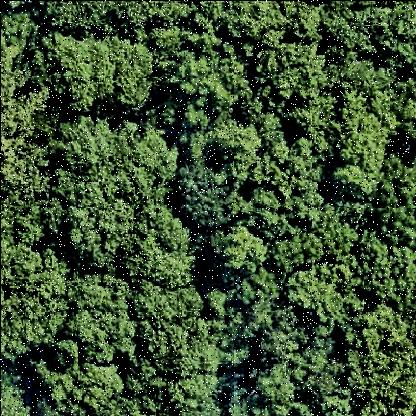tree-top: (60, 122, 194, 279), (47, 31, 160, 120), (130, 283, 219, 381), (340, 308, 416, 416), (235, 142, 323, 232), (7, 245, 73, 352), (255, 343, 343, 416), (1, 115, 53, 235), (33, 353, 131, 416), (330, 99, 391, 198), (168, 54, 248, 123), (64, 202, 140, 268), (59, 300, 136, 364), (254, 37, 326, 101), (216, 1, 312, 48), (285, 263, 355, 326), (364, 167, 415, 250), (171, 158, 231, 228), (230, 284, 283, 360), (206, 219, 270, 279), (357, 245, 416, 310), (37, 1, 146, 35), (1, 6, 33, 105), (371, 1, 416, 71), (319, 3, 373, 58), (217, 392, 273, 416), (1, 373, 29, 416), (398, 93, 416, 153)
